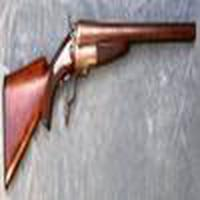gun: (3, 16, 194, 185)
